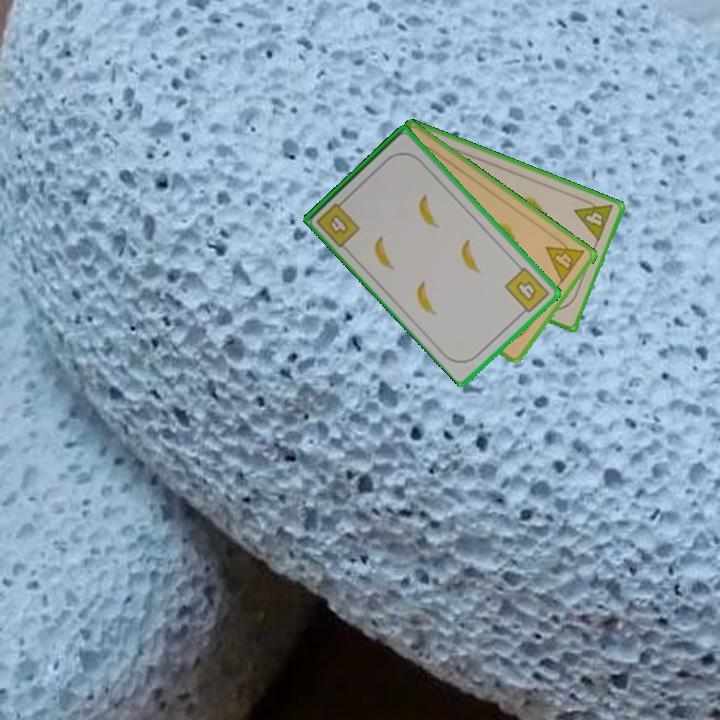4b: (501, 264, 552, 319), (313, 194, 363, 250)
4p: (542, 232, 587, 286), (571, 193, 616, 244)
